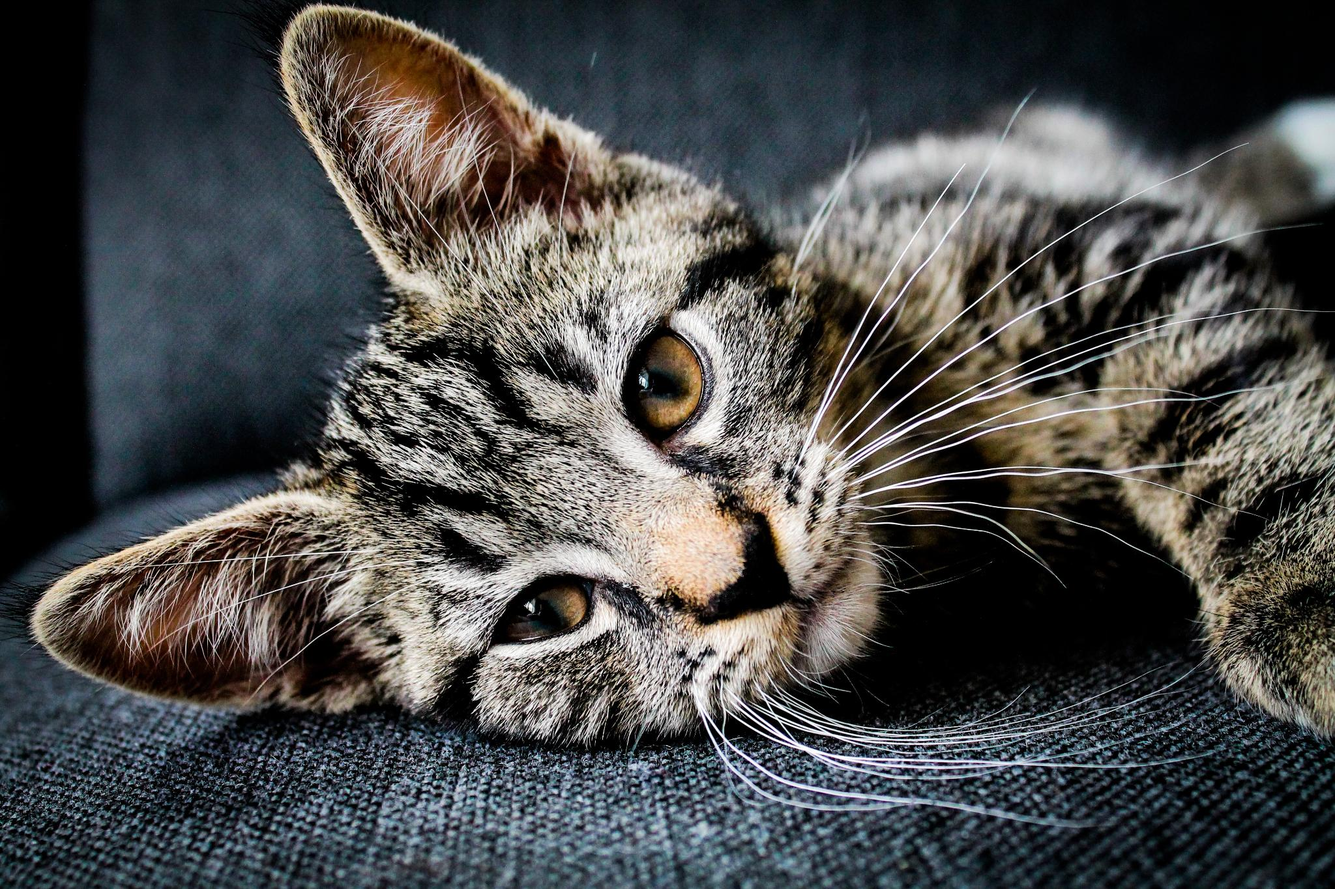cat: (4, 1, 1332, 830)
